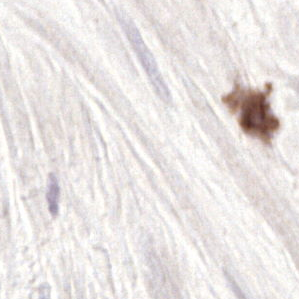Lymphocyte: (224, 85, 281, 139)
